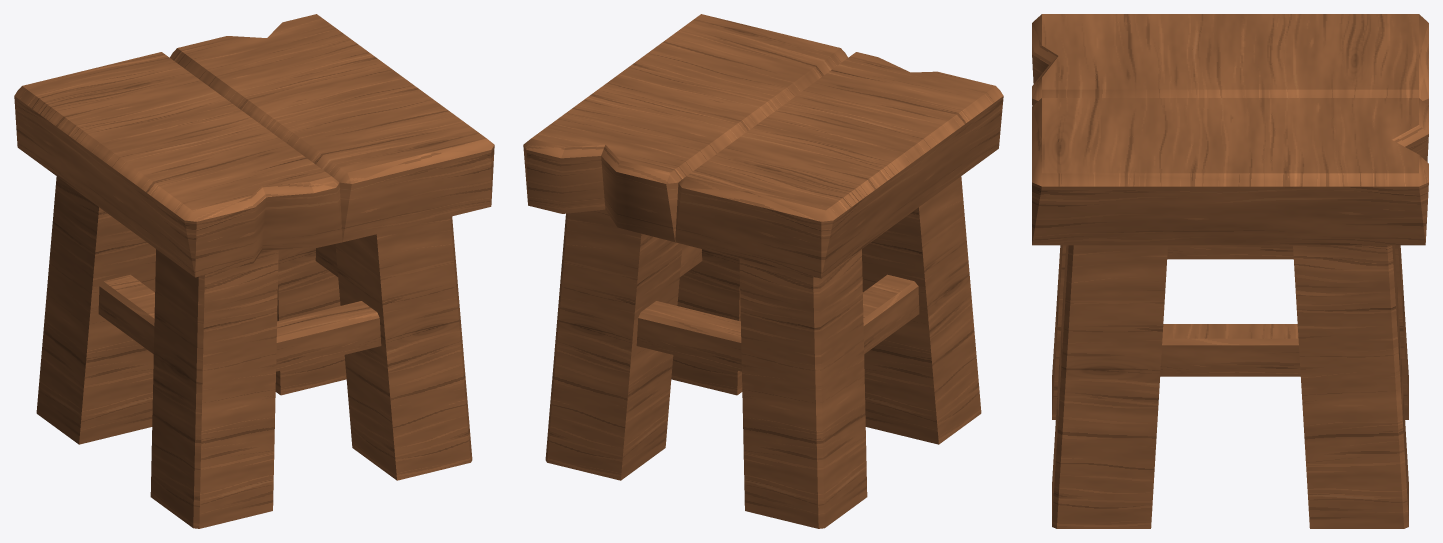
The model's file is tally_table.gltf.
The picture shows the model from 3 angles, left to right: view 1: azimuth 30°, elevation 25°; view 2: azimuth 150°, elevation 25°; view 3: azimuth 270°, elevation 25°; orthographic projection. The views are drawn at different scales.
Visible parts, largest first — view 1: tally_table; view 2: tally_table; view 3: tally_table.
Part boxes in pixels (x1=…): tally_table: x1=14, y1=14, x2=494, y2=528; tally_table: x1=523, y1=14, x2=1003, y2=528; tally_table: x1=1032, y1=14, x2=1428, y2=528.
Bounding box in the file's own units: 1 × 1 × 1.
Materials: 3 (3 with a texture image).
